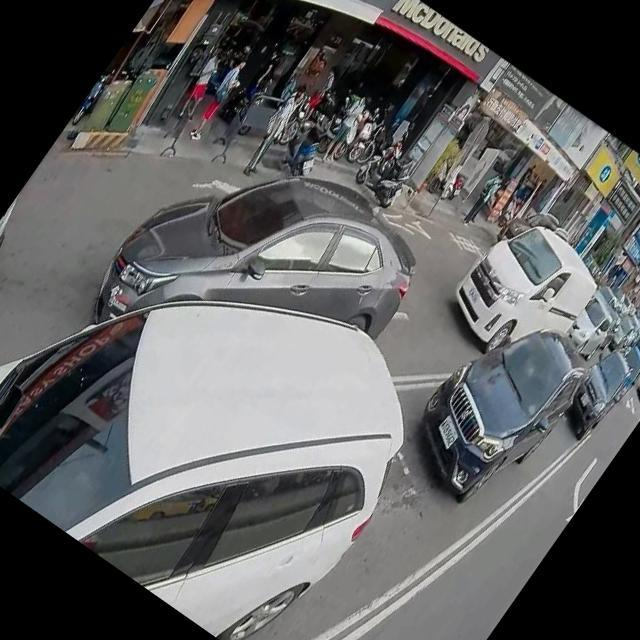person: (156, 32, 242, 142), (180, 52, 255, 150), (236, 81, 310, 178), (315, 90, 375, 164), (459, 164, 508, 227), (302, 65, 340, 113)
